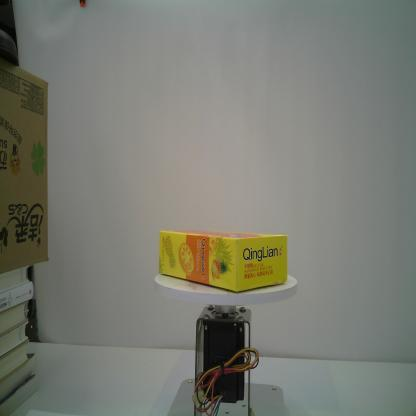Dessert: (159, 228, 288, 292)
